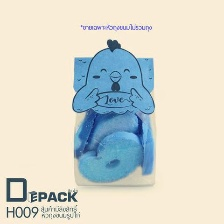snack: (64, 33, 164, 192)
